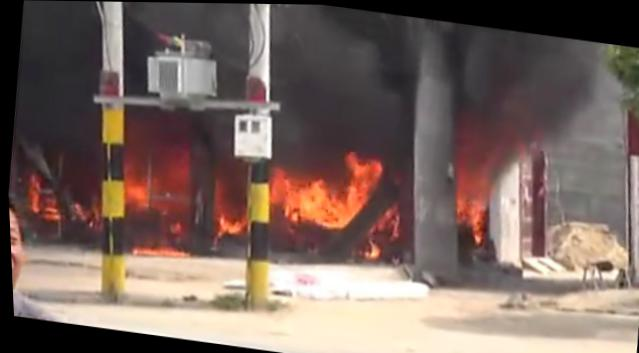fire: (335, 148, 379, 211), (449, 167, 490, 234), (280, 174, 324, 224), (118, 161, 150, 202), (318, 191, 349, 227), (129, 241, 190, 259), (264, 166, 288, 206), (209, 207, 243, 233), (22, 176, 41, 211), (360, 235, 381, 257)
